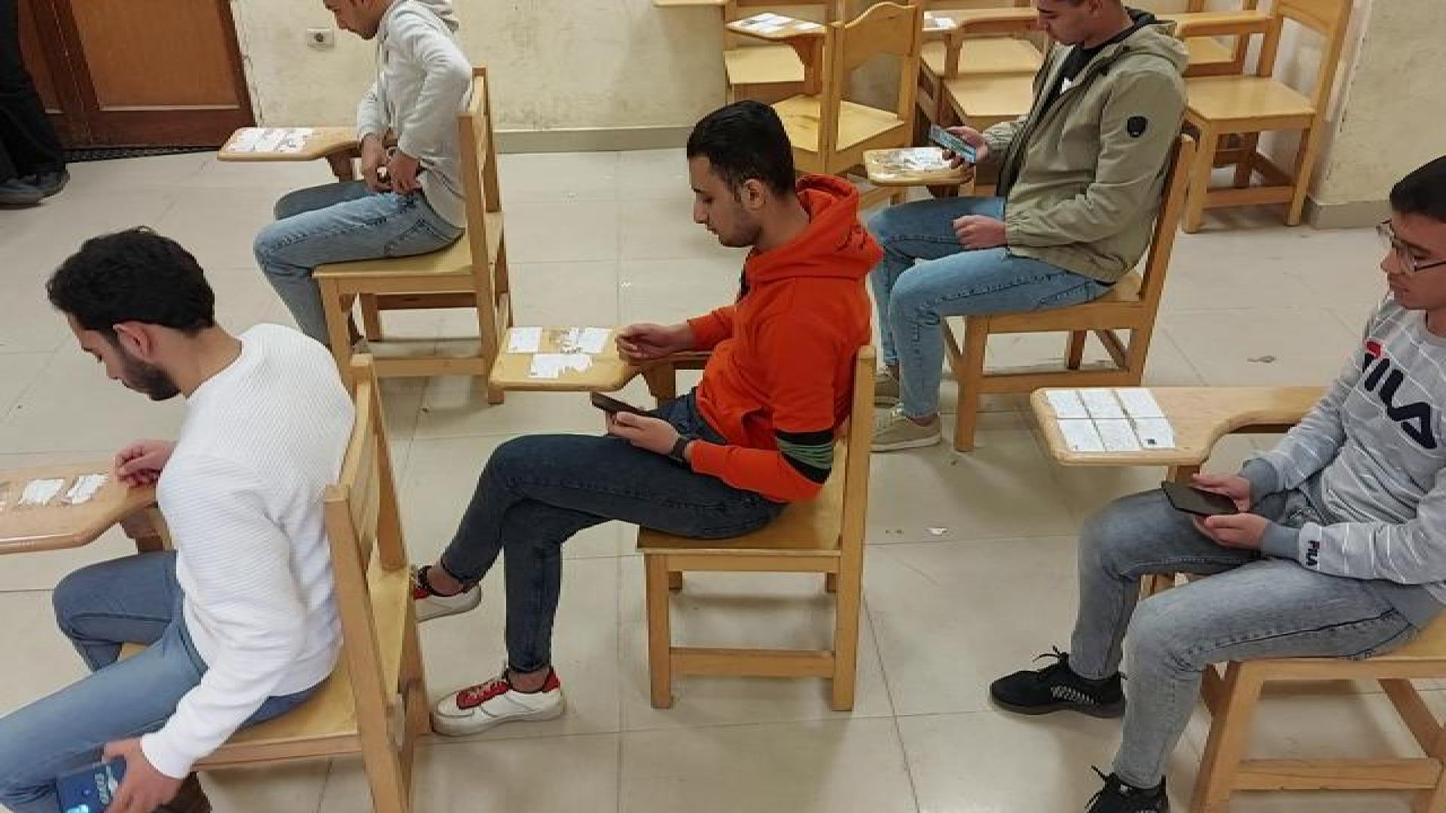phone: (47, 767, 142, 812), (1159, 479, 1245, 516), (927, 117, 984, 169), (586, 385, 654, 422)
